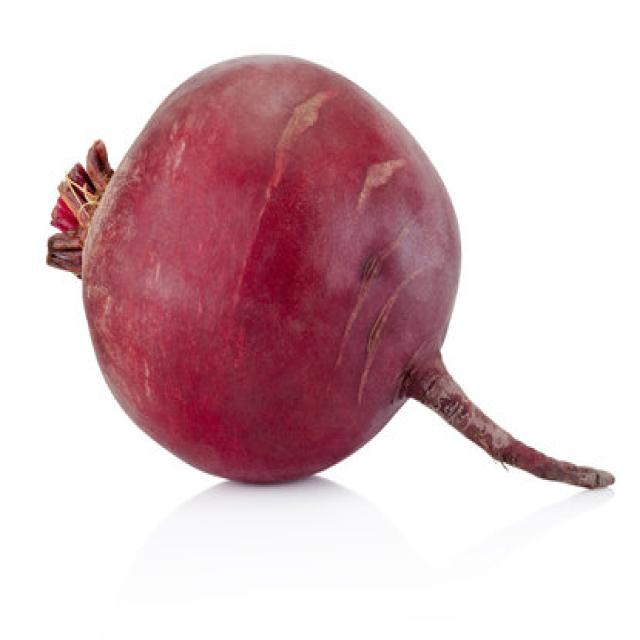Beetroot: (45, 49, 615, 490)
Carrot: (406, 354, 615, 489), (45, 137, 114, 277)
